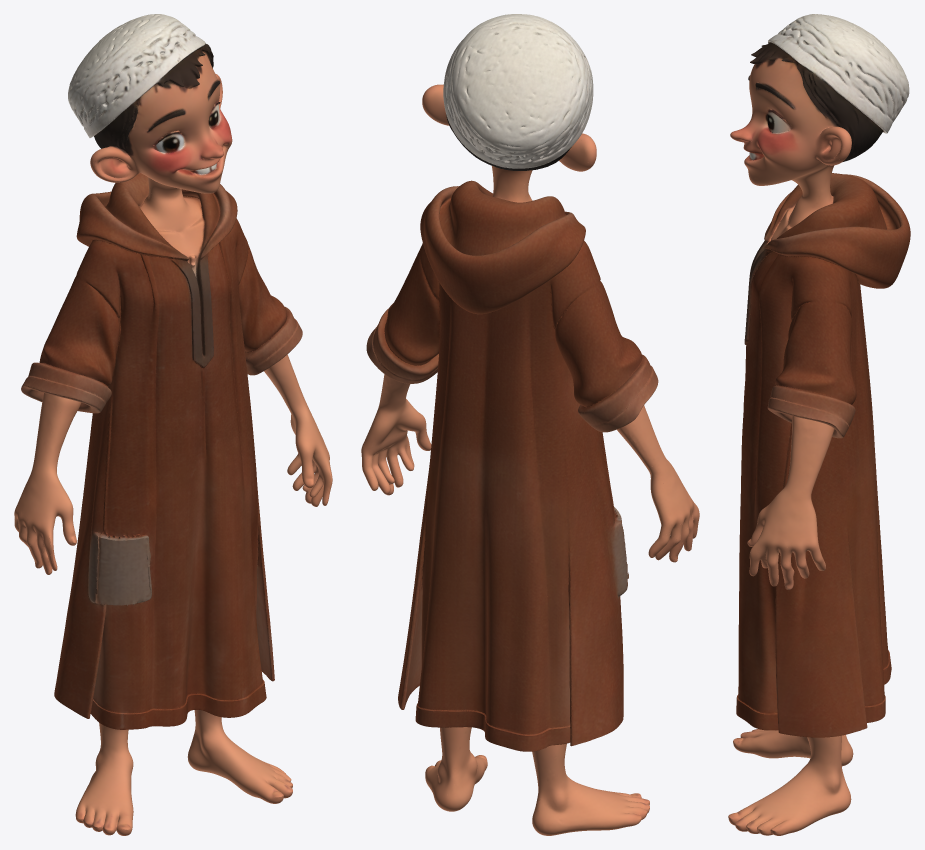
Rendered from kid3__base_basic_pbr.glb.
3 views of the same model, side by side, from view 1: azimuth 30°, elevation 25°; view 2: azimuth 150°, elevation 25°; view 3: azimuth 270°, elevation 25° (orthographic). The views are drawn at different scales.
Visible parts, largest first — view 1: model; view 2: model; view 3: model.
Boxes of the visible parts, bbox=[...] form: model: bbox=[14, 14, 332, 835]; model: bbox=[361, 14, 699, 835]; model: bbox=[728, 14, 910, 835].
Size of the model in its own units: 0.7815 by 1.9 by 0.4092.
Materials: 1 (1 with a texture image).
